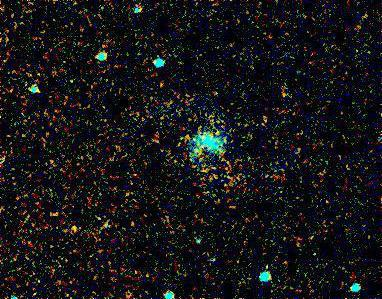star: (57, 217, 87, 247)
